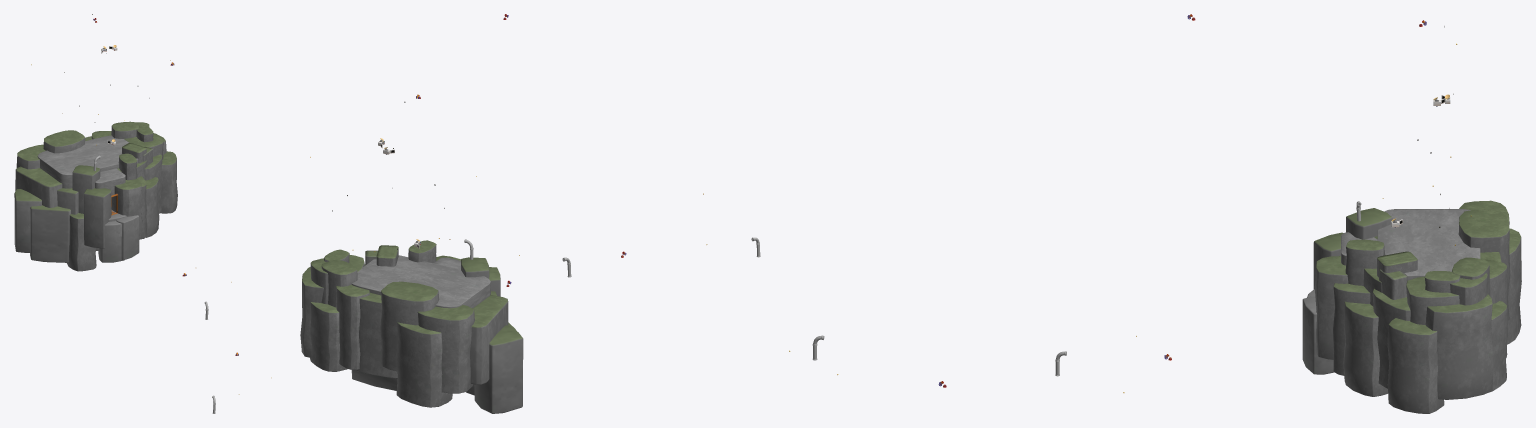
Rendered from props.glb.
3 renders of one model, left to right at view 1: azimuth 30°, elevation 25°; view 2: azimuth 150°, elevation 25°; view 3: azimuth 270°, elevation 25°, orthographic. The views are drawn at different scales.
Visible parts, largest first — view 1: SpawnableArea_HallOfChampions_Combined(Clone)/HallOfChamps/H (×17); view 2: SpawnableArea_HallOfChampions_Combined(Clone)/HallOfChamps/H (×12); view 3: SpawnableArea_HallOfChampions_Combined(Clone)/HallOfChamps/H (×12).
Boxes of the visible parts, box(x1,y1,x2,y2) form: SpawnableArea_HallOfChampions_Combined(Clone)/HallOfChamps/H (×17): box(14, 121, 177, 271); SpawnableArea_HallOfChampions_Combined(Clone)/HallOfChamps/H (×12): box(300, 240, 523, 413); SpawnableArea_HallOfChampions_Combined(Clone)/HallOfChamps/H (×12): box(1302, 201, 1521, 413).
Size of what is drawn, in the model's own units: 228 by 341 by 560.
16 materials, 15 textured.
